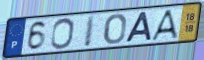6: (26, 20, 48, 52)
A: (150, 8, 180, 42), (124, 11, 153, 44)
I: (83, 14, 97, 49)
O: (49, 17, 75, 50), (103, 13, 127, 46)
